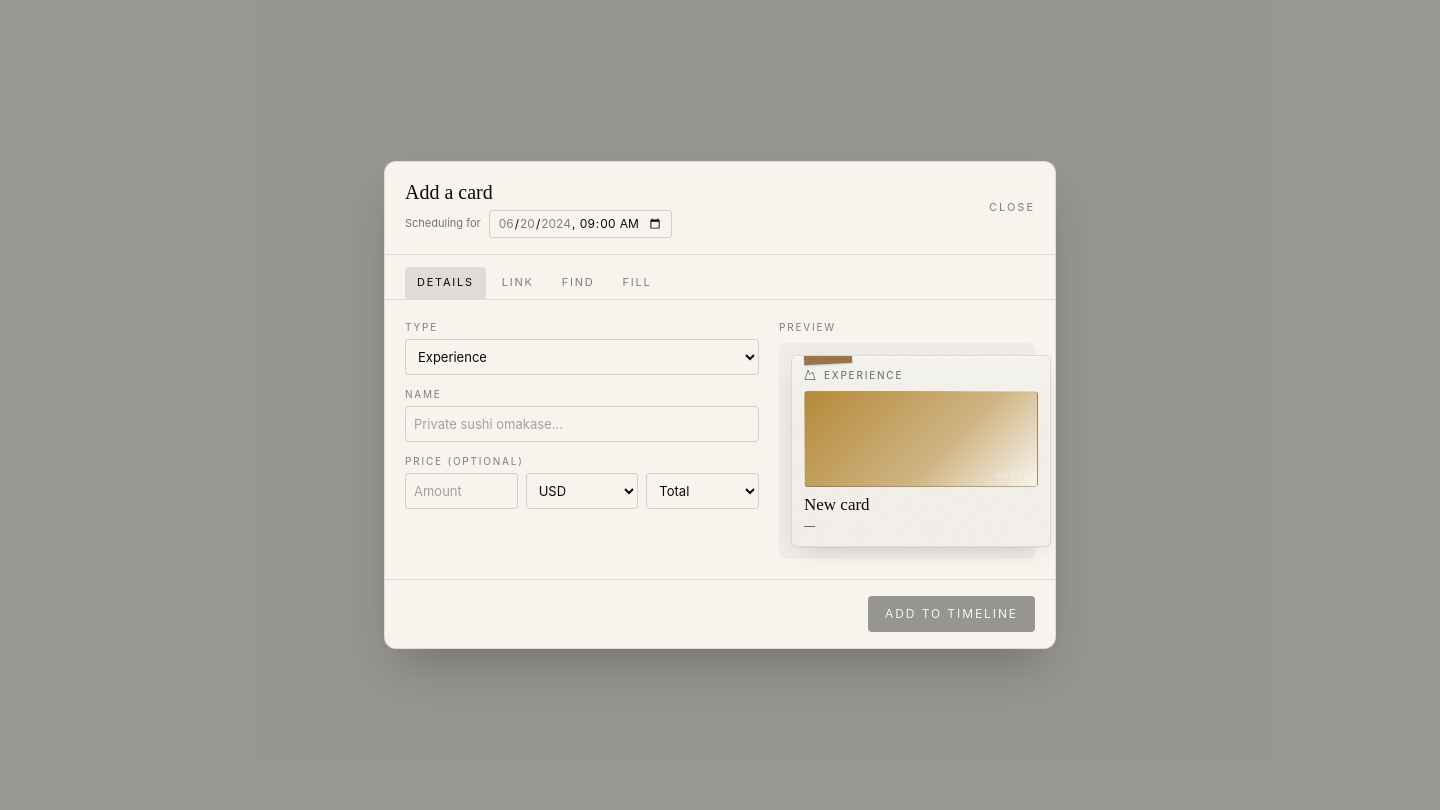
Test: unified Add composer — Details / Link / Find / Fill › placing at a slot offers all four modes with an editable scheduled time
Expected: the button with test id "composer-mode-fill" is shown, [610,267,663,299]
Expected: the field with test id "composer-title" is shown, [405,406,759,442]
Note: Switching to Find drops the schedule field — Find lands in the Collection.
Click the button with test id "composer-mode-find" at (578, 283), box [550,267,606,299]
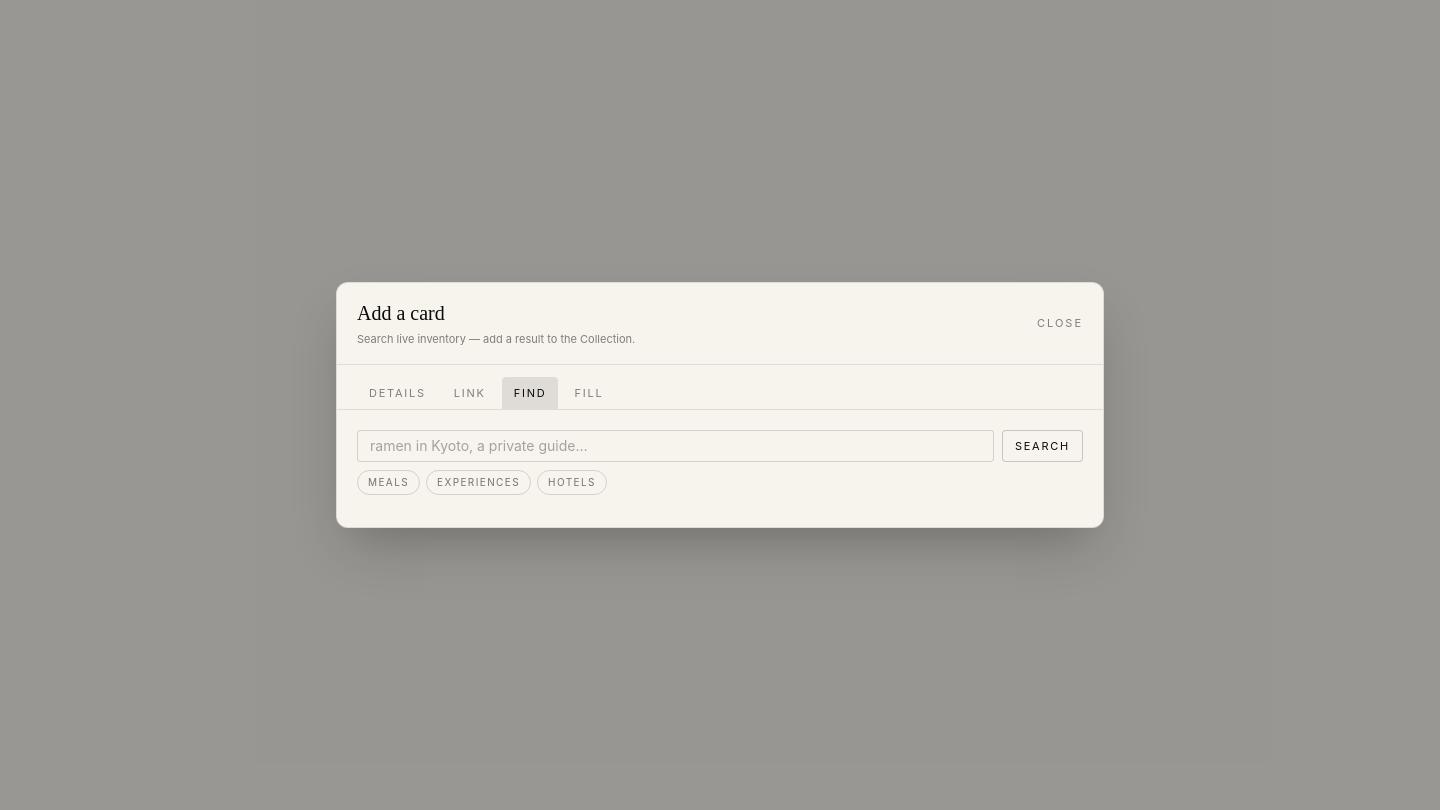
Now the element with test id "itinerary-graph-search" is shown, box [357,430,1083,507]
Now the field with test id "composer-schedule-input" is gone
